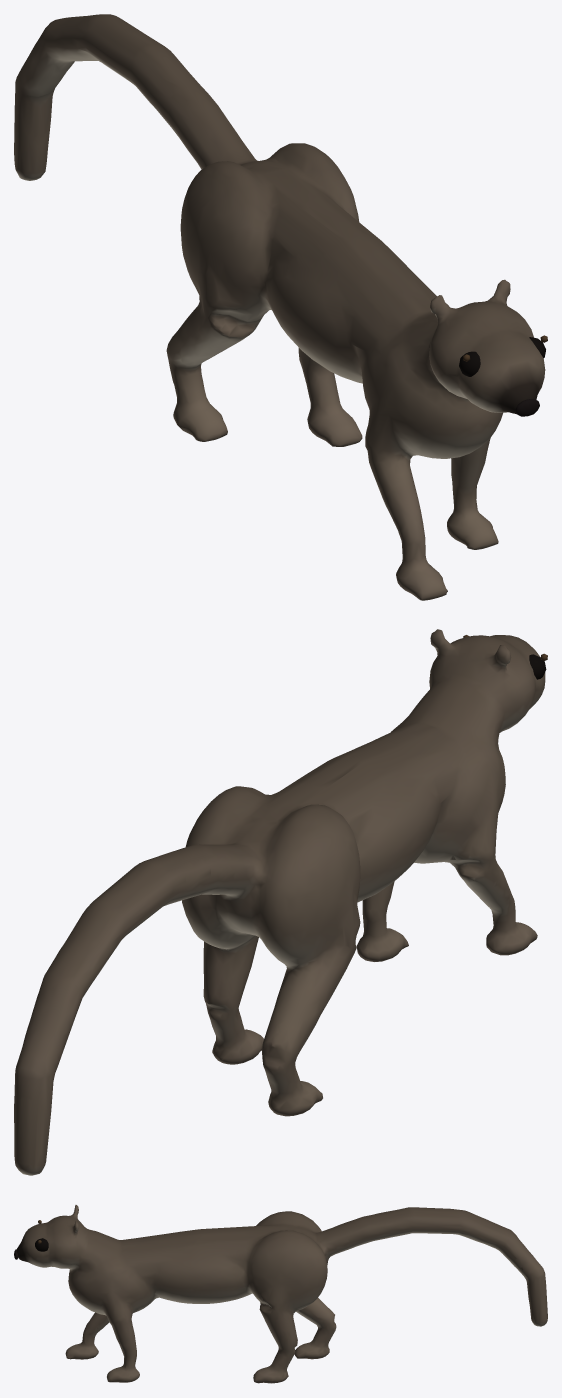
File: DarwiniusMasillae.fbx
3 renders of one model, top to bottom at view 1: azimuth 30°, elevation 25°; view 2: azimuth 150°, elevation 25°; view 3: azimuth 270°, elevation 25°, orthographic. The views are drawn at different scales.
Parts seen in each view (by area): view 1: DarwiniusMasillae; view 2: DarwiniusMasillae; view 3: DarwiniusMasillae.
Boxes of the visible parts, x1,y1,x2,y2 form: DarwiniusMasillae: (14,14,547,600); DarwiniusMasillae: (14,629,547,1175); DarwiniusMasillae: (14,1205,547,1383).
Size of the model in its own units: 0.2642 by 0.5173 by 1.55.
